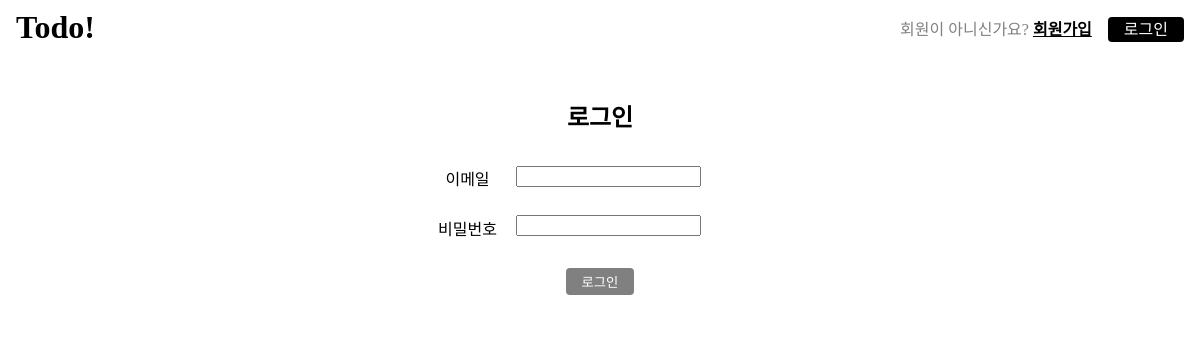
로그인 요청 실패시 에러메시지 출력
The image size is (1201, 344).
Type "test@@" into the field labelled "이메일" at {"x": 608, "y": 176}, box 516,166 -> 700,187
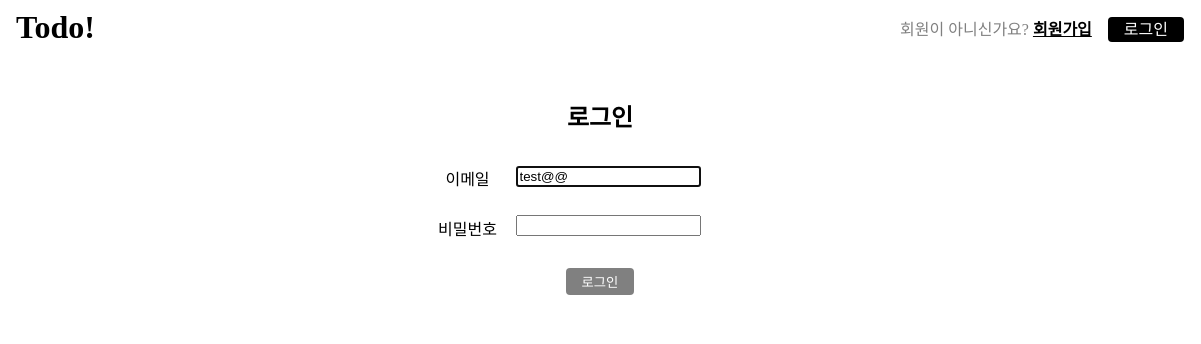
Type "12345678" into the password field labelled "비밀번호" at {"x": 608, "y": 226}, box 516,215 -> 700,236
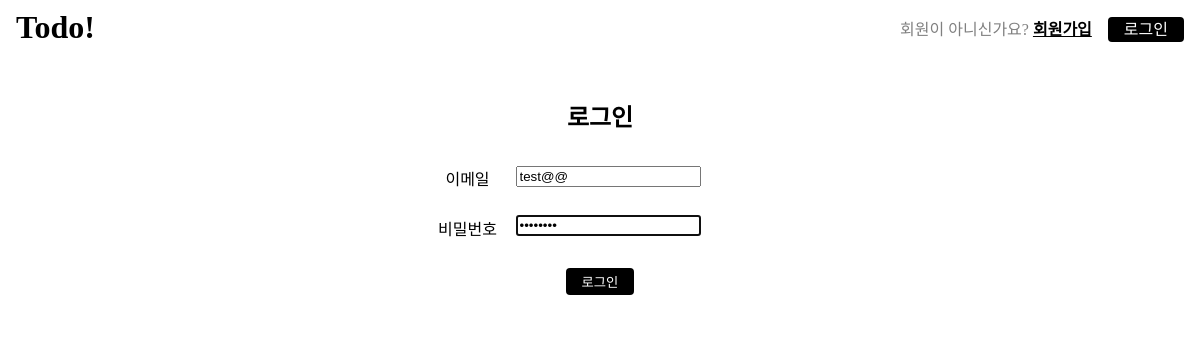
Click the button "로그인" at {"x": 600, "y": 282}, box 566,268 -> 634,295
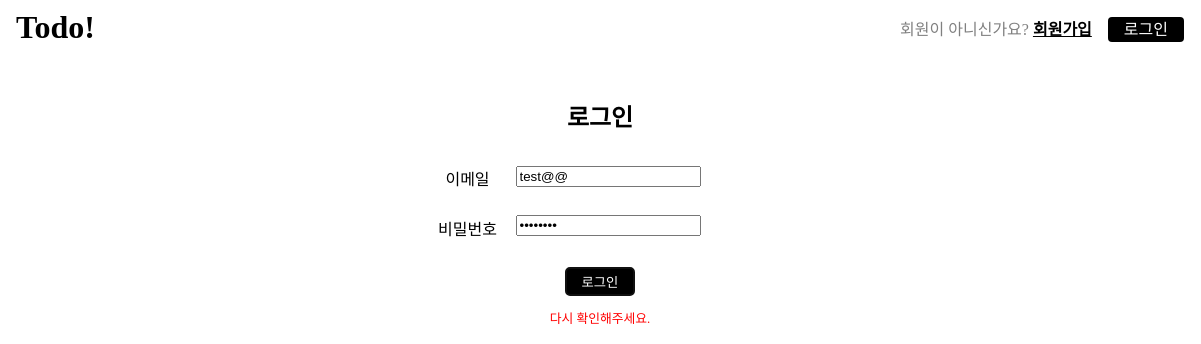
Now the text "다시 확인해주세요." is shown, box 550,308 -> 650,327
